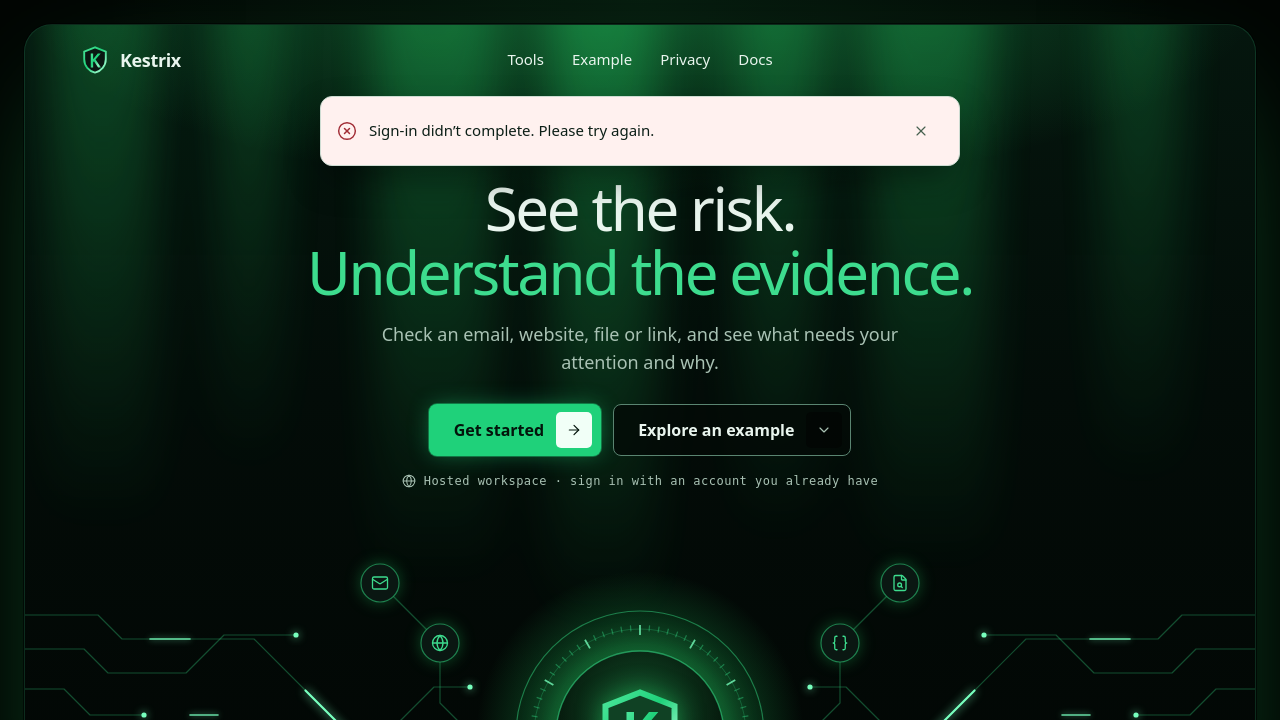
Test: hosted routing › redirects /welcome to / keeping the sign-in failure, and the banner can be dismissed
The width and height of the screenshot is (1280, 720).
Check: the message reads "Sign-in didn’t complete. Please try again.", box x1=369 y1=120 x2=654 y2=140
Step 1. Click the button named "Dismiss" → x=921, y=131, box x1=899 y1=109 x2=943 y2=153
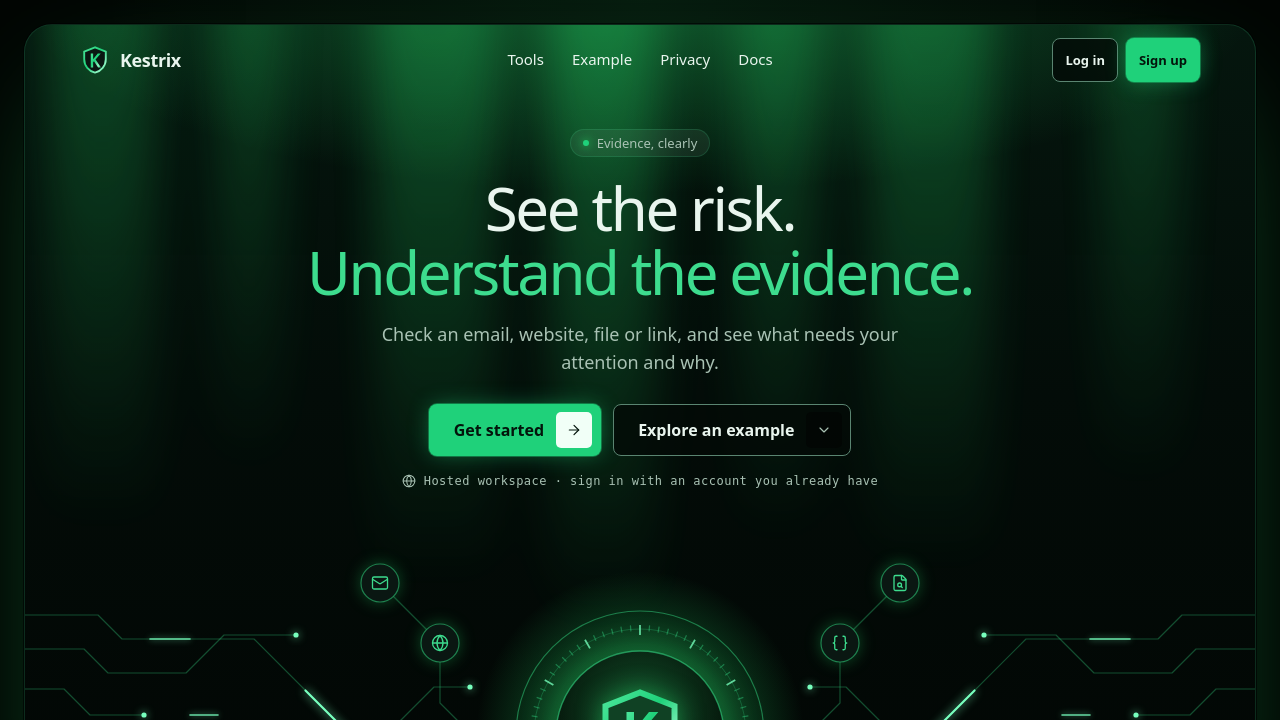
Check: the message "Sign-in didn’t complete. Please try again." is gone
